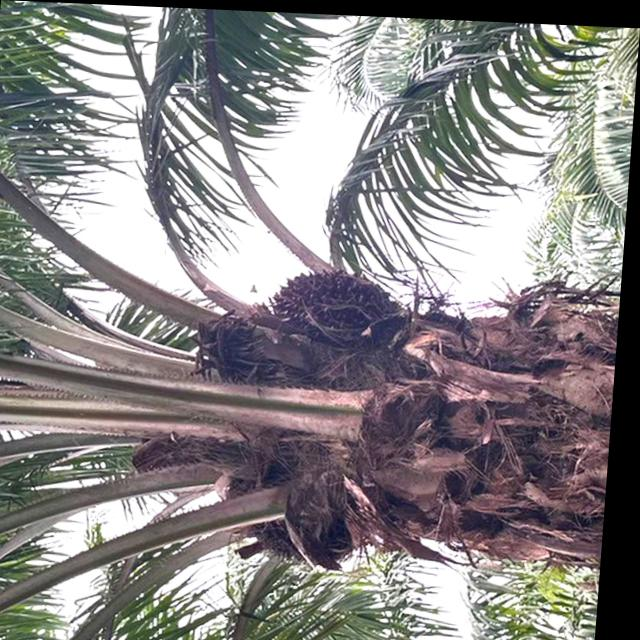ripe: (269, 257, 410, 338)
